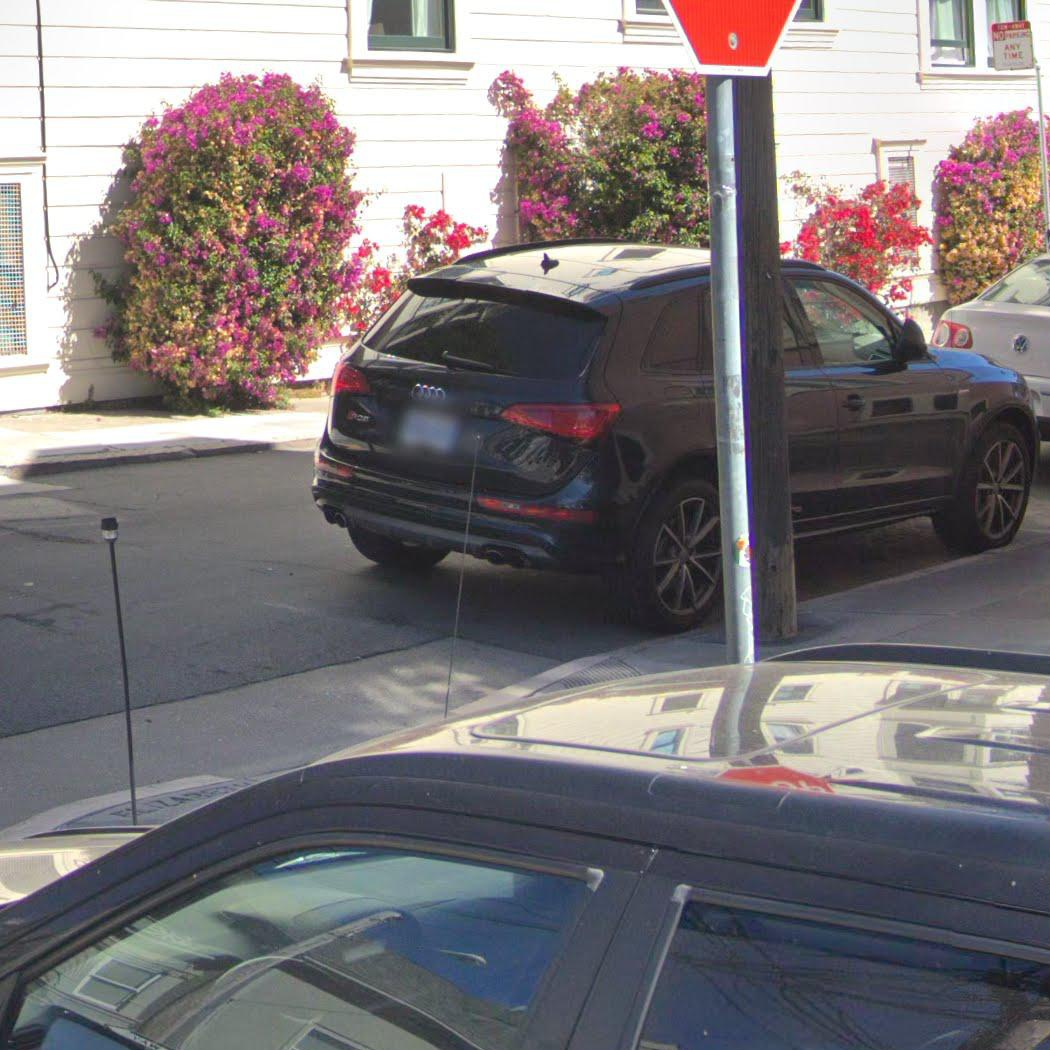No Parking Anytime: (990, 20, 1036, 72)
